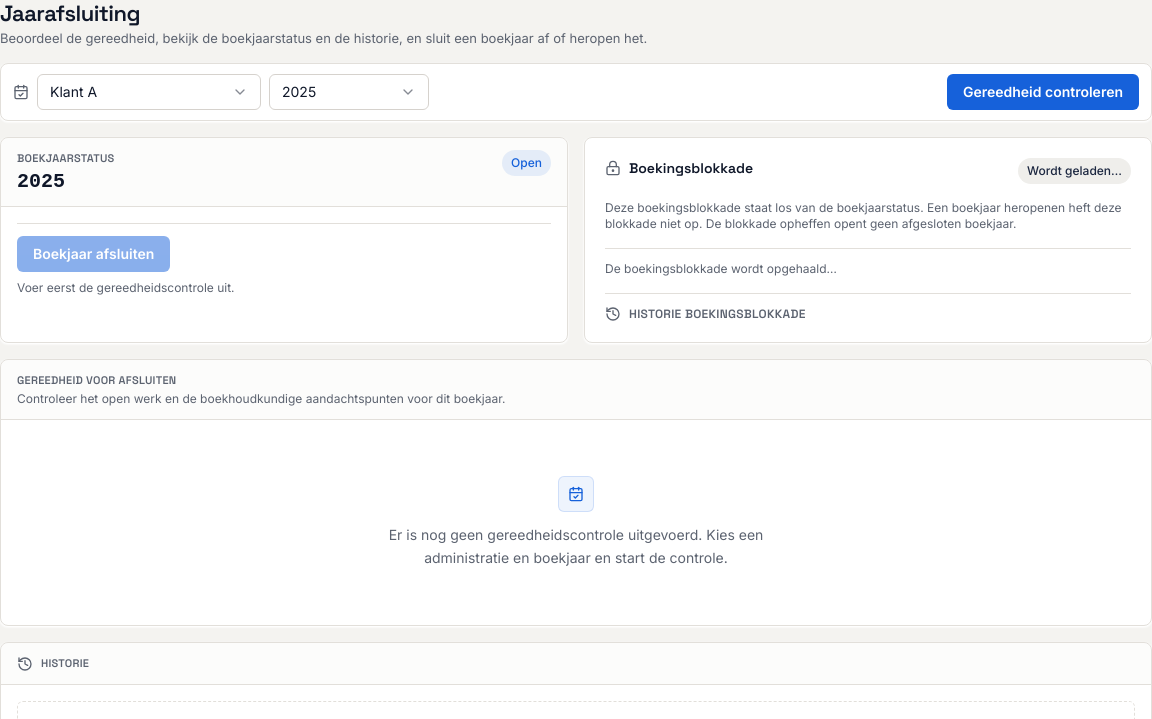
Na een geslaagde handeling wordt alles ververst › 8. een geslaagde herafsluiting toont Afgesloten en de derde gebeurtenis
This screenshot has width=1152, height=719.
Click the button with test id "jaar-uitvoeren" at (1043, 92), box [947,74,1139,110]
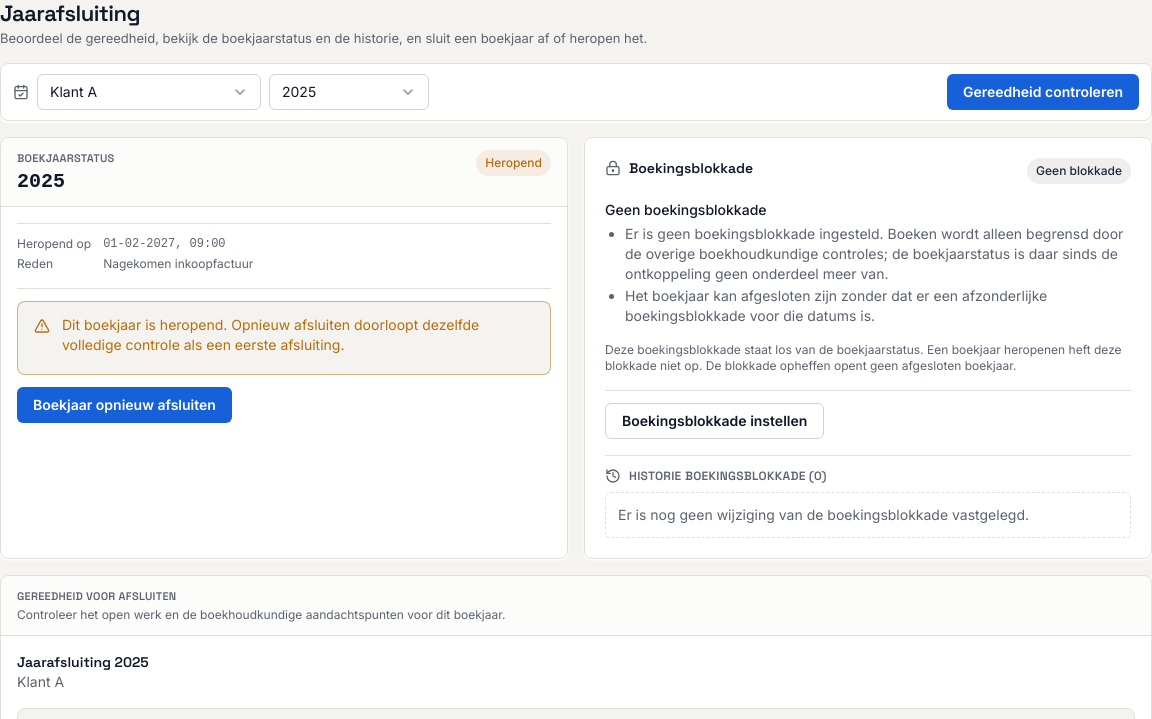
Click the button with test id "jaar-afsluiten" at (124, 405), box [17,387,232,423]
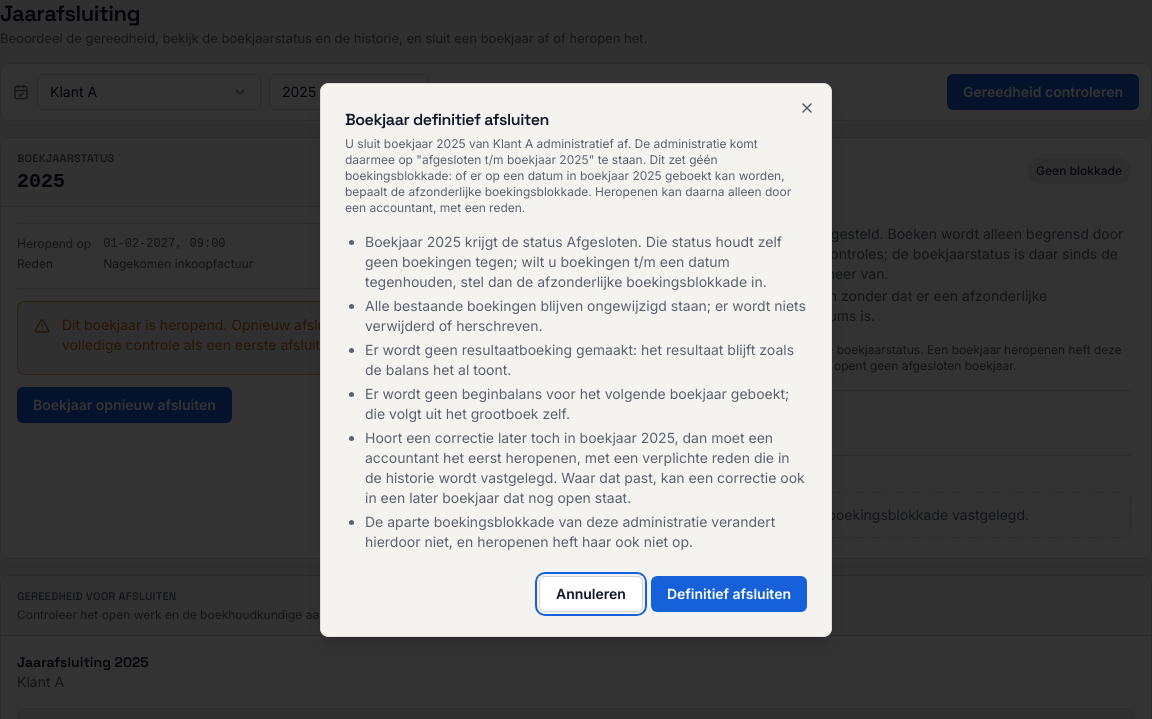
Click the button with test id "jaar-bevestig-knop" at (729, 594), box [651,576,807,612]
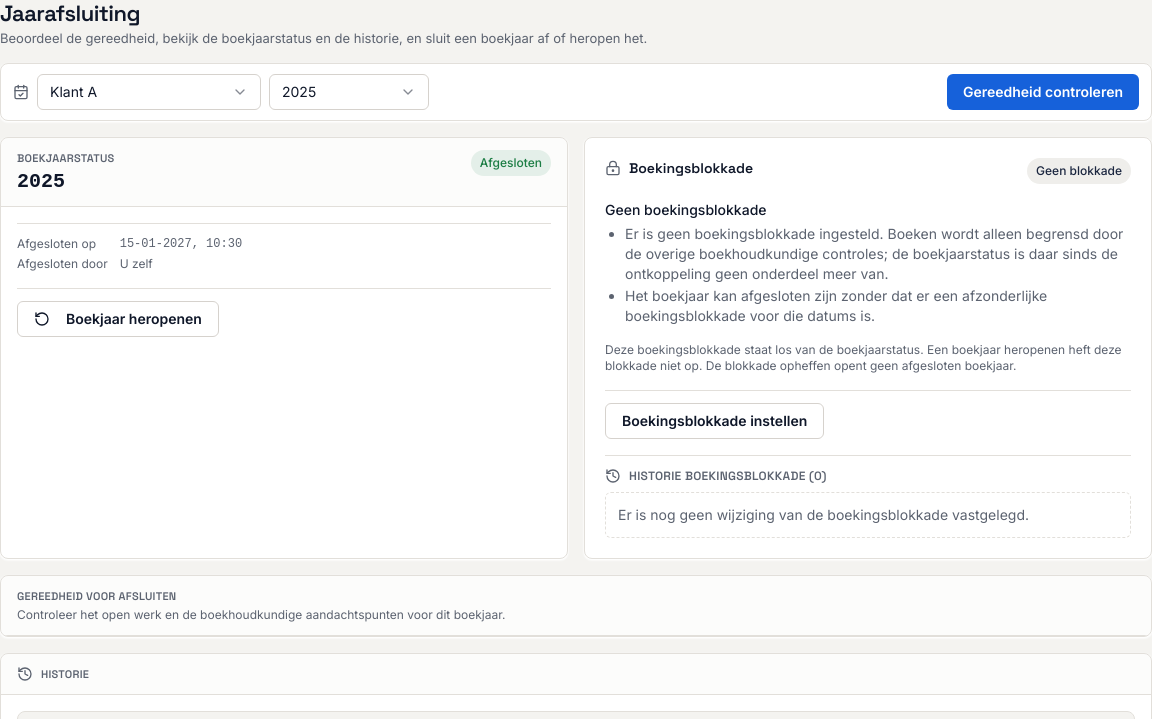
Result: the button with test id "jaar-afsluiten" is gone
Result: the button with test id "jaar-heropenen" is shown at [17,301,219,337]
